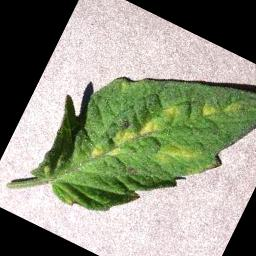Leaf_Mold: (24, 13, 256, 256)
